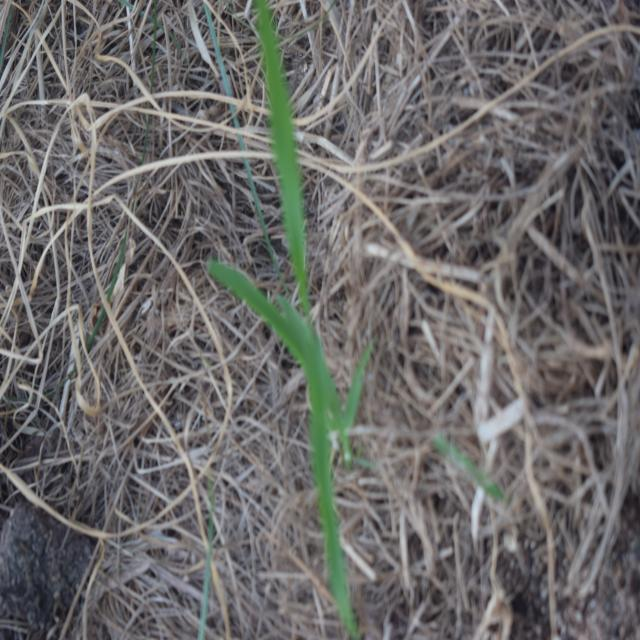crabgrass: (194, 0, 396, 597)
